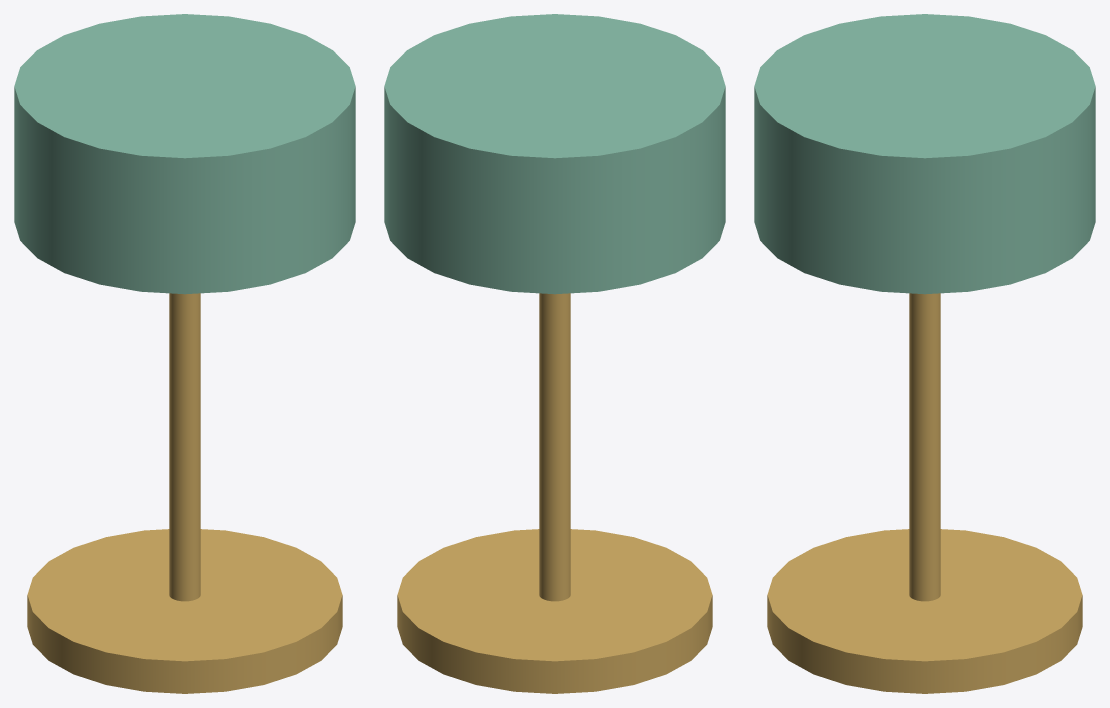
File: small-lamp.glb
3 views of the same model, side by side, from view 1: azimuth 30°, elevation 25°; view 2: azimuth 150°, elevation 25°; view 3: azimuth 270°, elevation 25° (orthographic).
Visible parts, largest first — view 1: small-lamp; view 2: small-lamp; view 3: small-lamp.
Boxes of the visible parts, x1=… form: small-lamp: x1=14, y1=14, x2=355, y2=693; small-lamp: x1=384, y1=14, x2=725, y2=693; small-lamp: x1=754, y1=14, x2=1095, y2=693.
Bounding box in the file's own units: 16 × 28 × 16.
